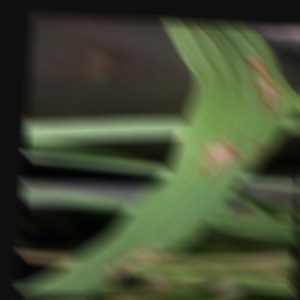Brown_Spot: (102, 243, 176, 293), (187, 136, 248, 184), (252, 68, 287, 110), (244, 137, 280, 177), (244, 52, 287, 76)
